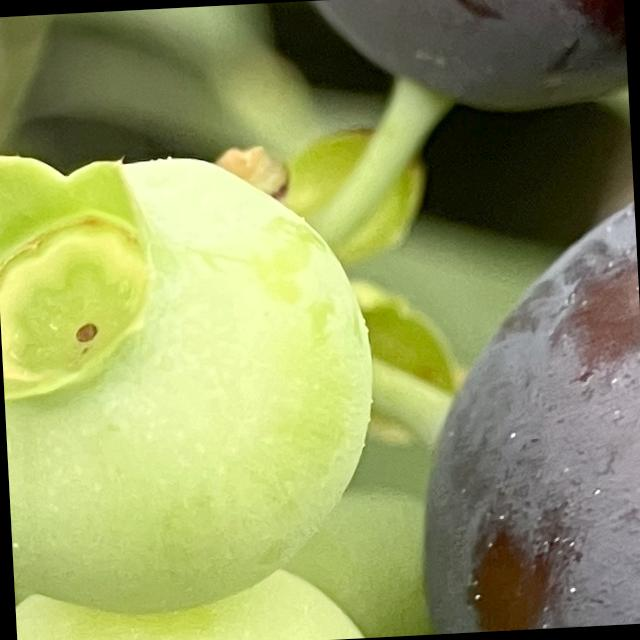Blueberries: (0, 126, 384, 616), (397, 162, 640, 635)
